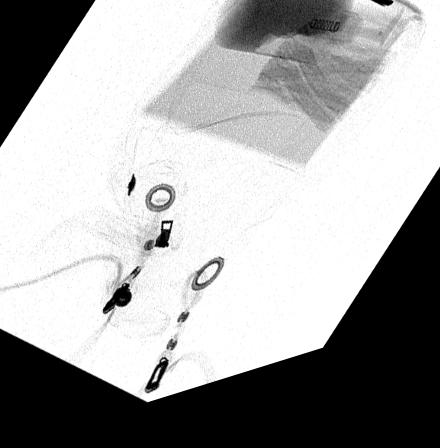Wrench: (311, 0, 394, 31)
